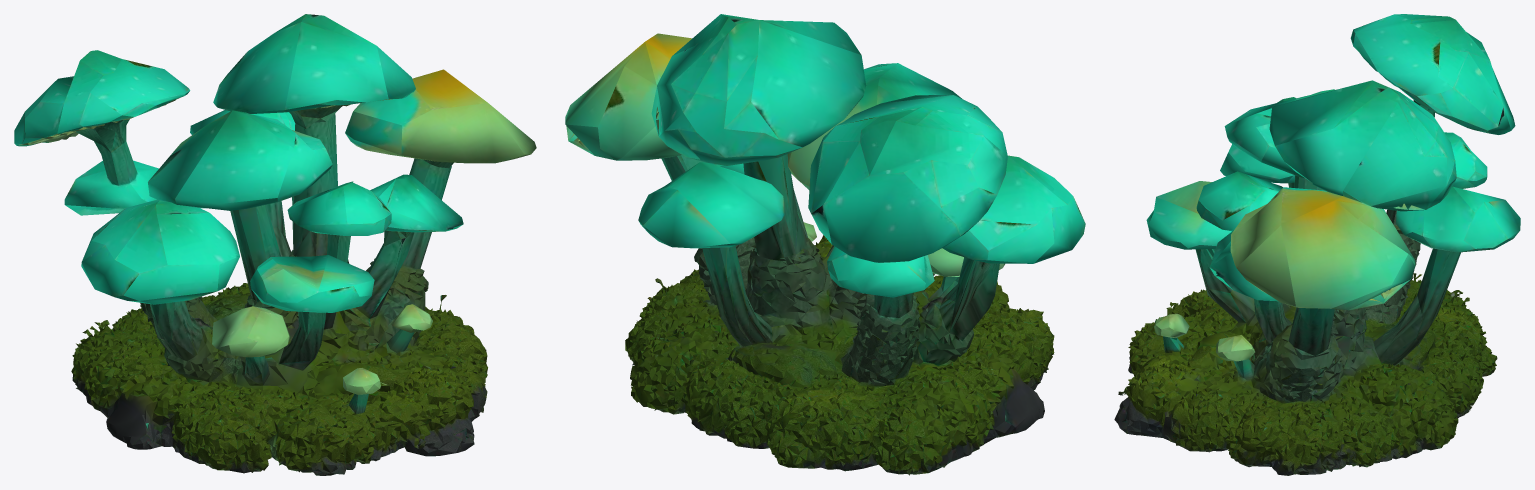
File: mushrooms_s.glb
The picture shows the model from 3 angles, left to right: view 1: azimuth 30°, elevation 25°; view 2: azimuth 150°, elevation 25°; view 3: azimuth 270°, elevation 25°; orthographic projection. The views are drawn at different scales.
Bounding box in the file's own units: 1.88 × 1.39 × 1.55.
1 material, 1 textured.
